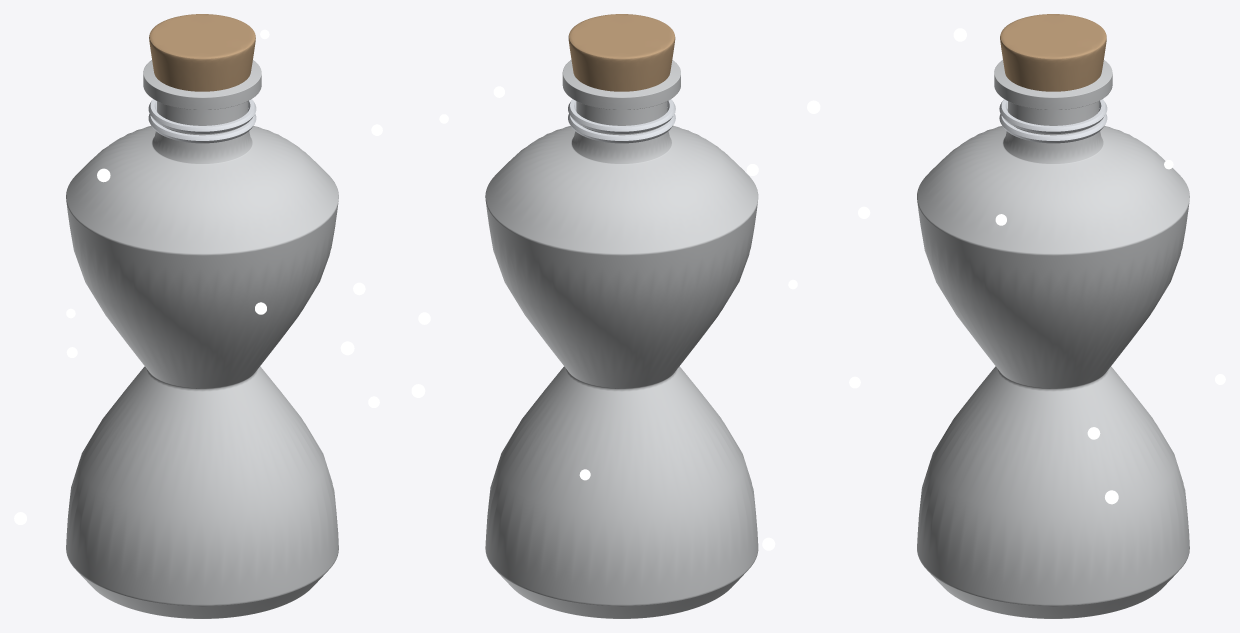
Rendered from invisibilitypotion.glb.
3 renders of one model, left to right at view 1: azimuth 30°, elevation 25°; view 2: azimuth 150°, elevation 25°; view 3: azimuth 270°, elevation 25°, orthographic.
Visible parts, largest first — view 1: InvisibilityPotion_Glass, InvisibilityPotion_Cork, InvisibilityPotion_String.001, InvisibilityPotion_String; view 2: InvisibilityPotion_Glass, InvisibilityPotion_Cork, InvisibilityPotion_String.001, InvisibilityPotion_String; view 3: InvisibilityPotion_Glass, InvisibilityPotion_Cork, InvisibilityPotion_String.001, InvisibilityPotion_String.
Boxes of the visible parts, x1,y1,x2,y2 form: InvisibilityPotion_Glass: (66, 60, 338, 618); InvisibilityPotion_Cork: (149, 14, 255, 91); InvisibilityPotion_String.001: (148, 99, 256, 133); InvisibilityPotion_String: (148, 107, 256, 143); InvisibilityPotion_Glass: (485, 60, 758, 618); InvisibilityPotion_Cork: (568, 14, 675, 91); InvisibilityPotion_String.001: (568, 99, 675, 133); InvisibilityPotion_String: (568, 107, 675, 143); InvisibilityPotion_Glass: (917, 60, 1189, 618); InvisibilityPotion_Cork: (1000, 14, 1106, 91); InvisibilityPotion_String.001: (999, 99, 1107, 133); InvisibilityPotion_String: (999, 107, 1107, 143).
Bounding box in the file's own units: 1.78 × 2.58 × 1.65.
